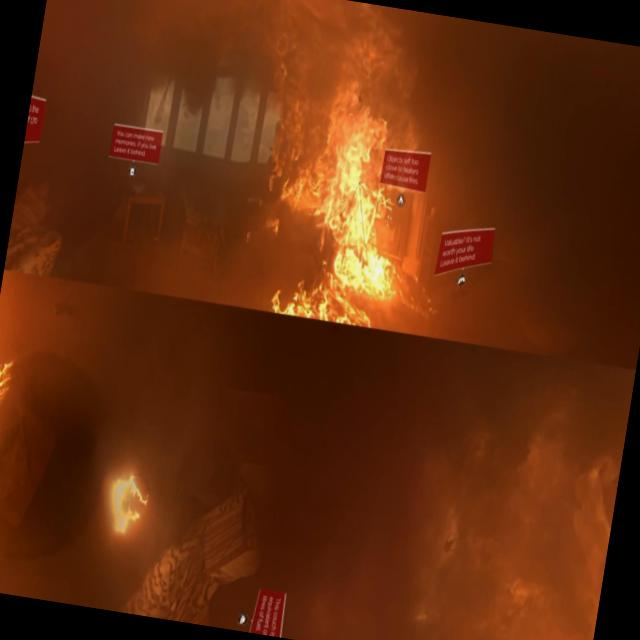fire: (234, 0, 444, 329)
